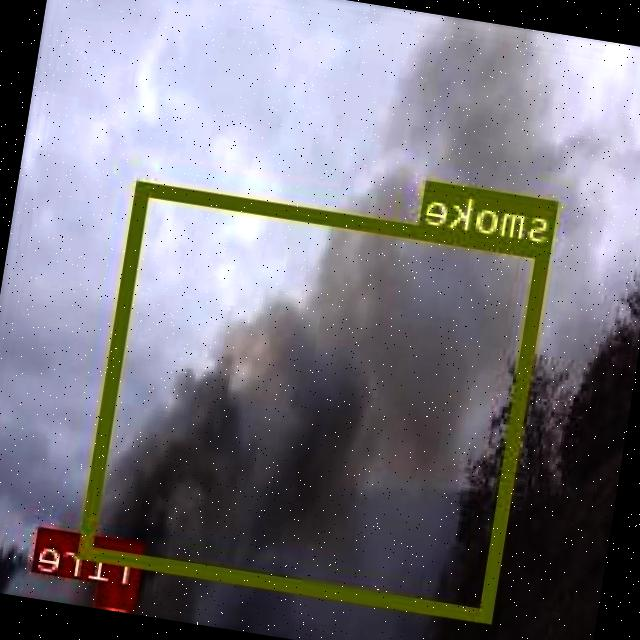fire: (100, 580, 141, 609)
smoke: (80, 180, 554, 622)
